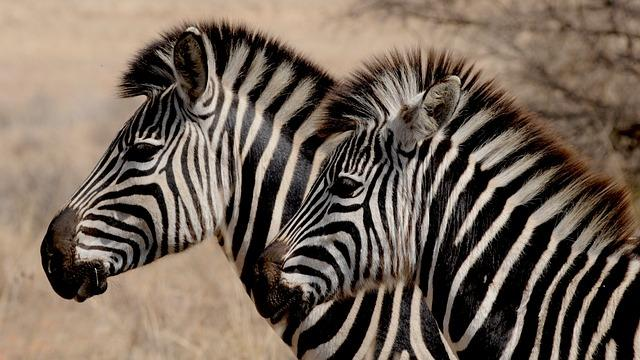Non_Gorille: (32, 1, 640, 360)
